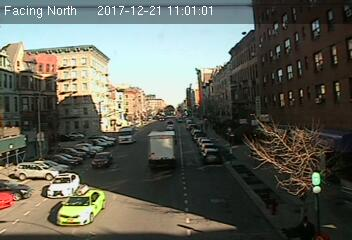car: (55, 187, 105, 225), (46, 173, 80, 198), (92, 152, 113, 169), (202, 147, 221, 163)
truck: (147, 131, 177, 167), (119, 127, 137, 144)
